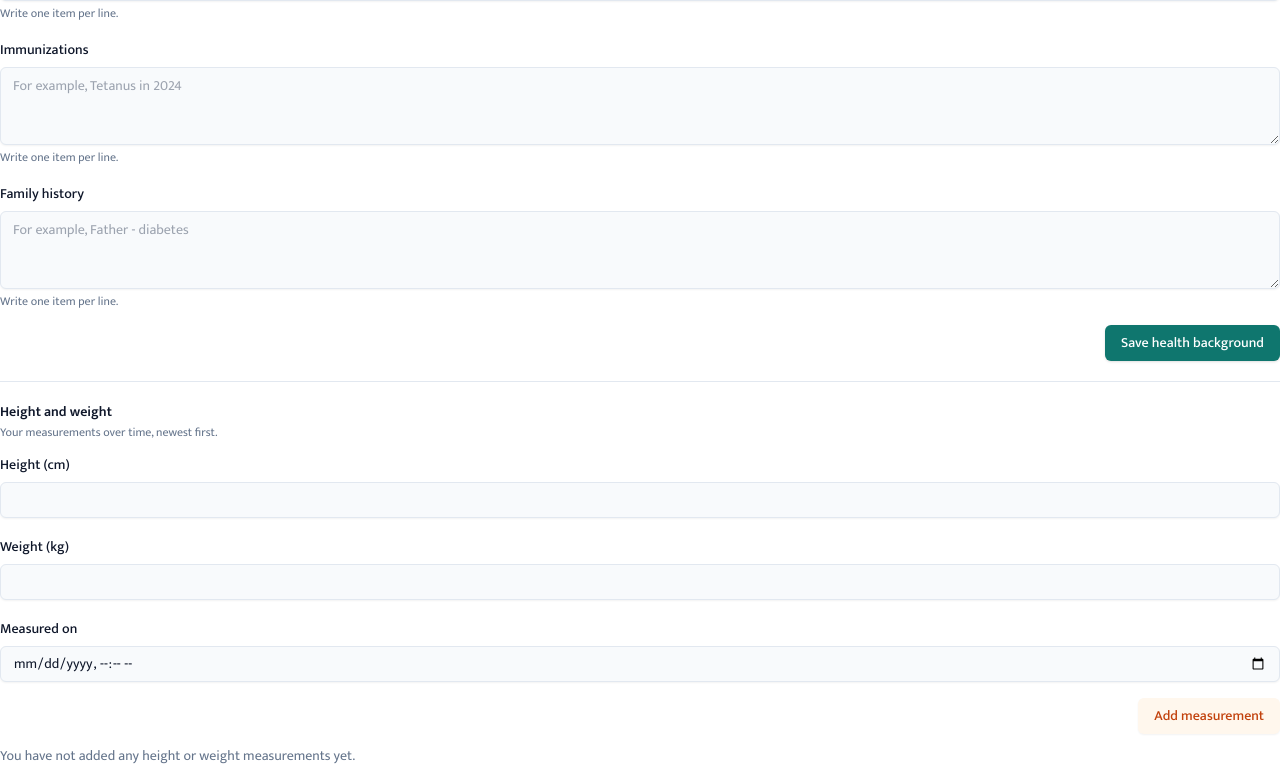
Scenario: Health background zone surface (#549) › appends a measurement and shows it in the series without a reload
(page scrolled)
Type "170" into the field with test id "ps-hb-metric-height" at (640, 500), box [0,482,1279,518]
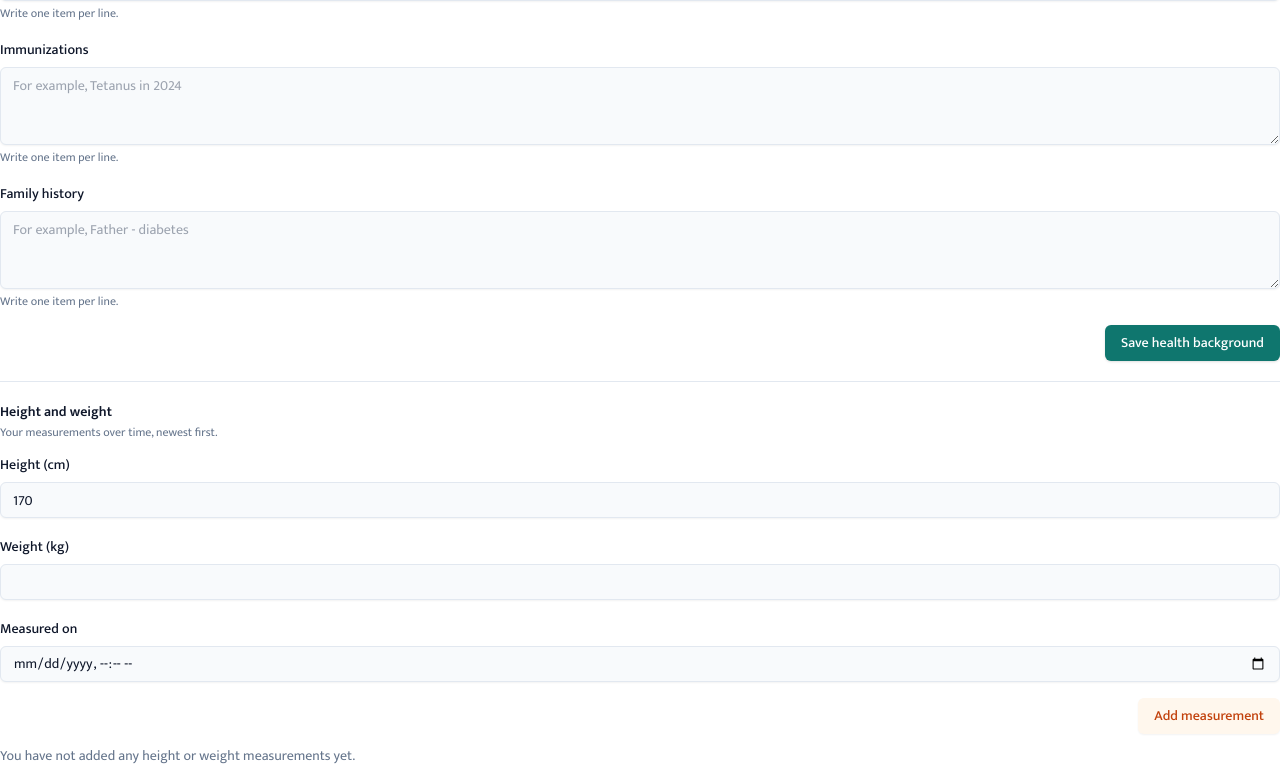
Type "68.5" into the field with test id "ps-hb-metric-weight" at (640, 582), box [0,564,1279,600]
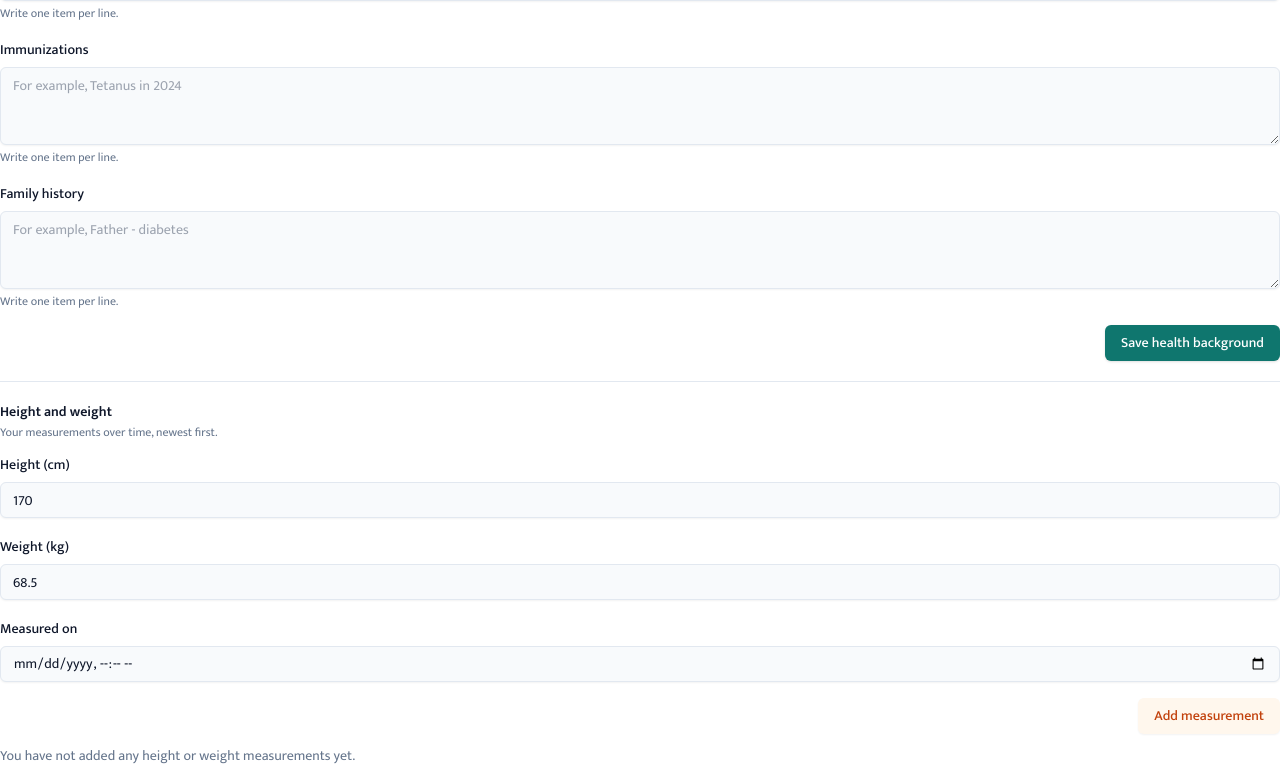
Type "2026-09-26T10:00" into the field with test id "ps-hb-metric-recorded-at" at (640, 664), box [0,646,1279,682]
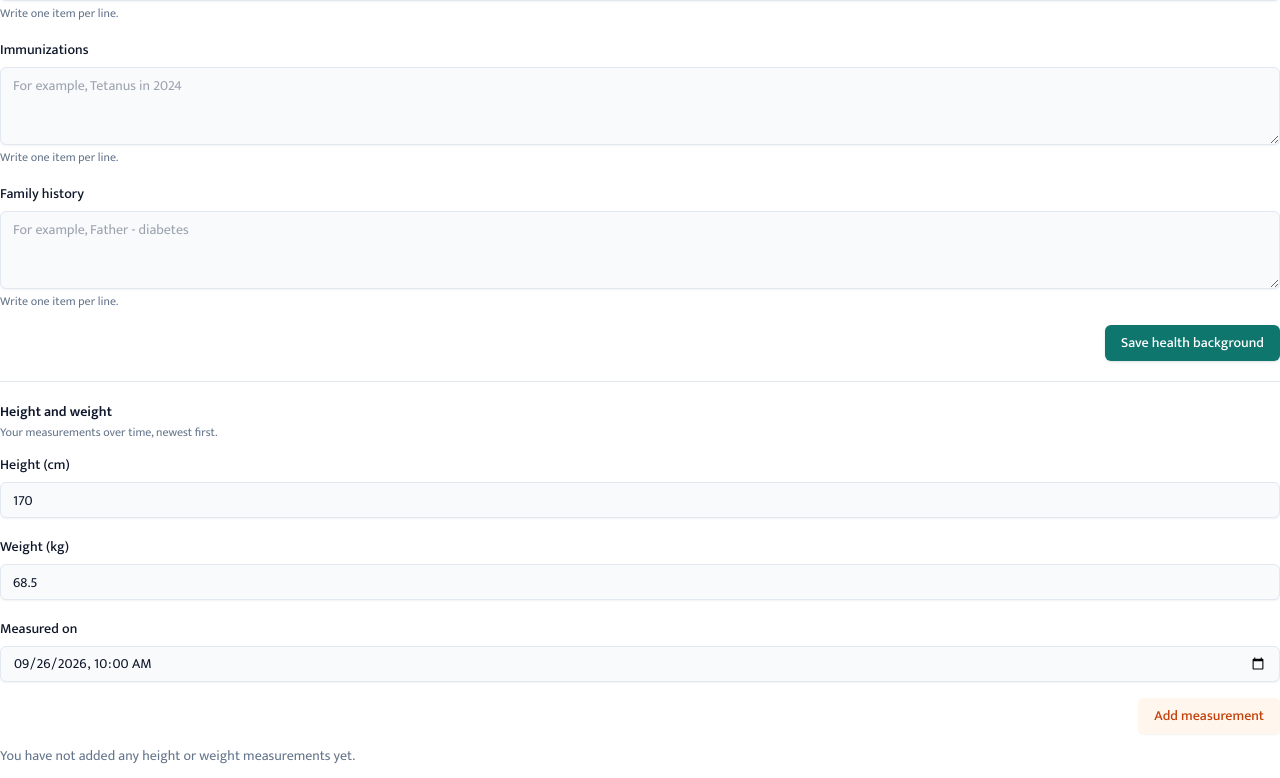
Click the button with test id "ps-hb-metric-add" at (1209, 716), box [1138,698,1279,734]
(page scrolled)
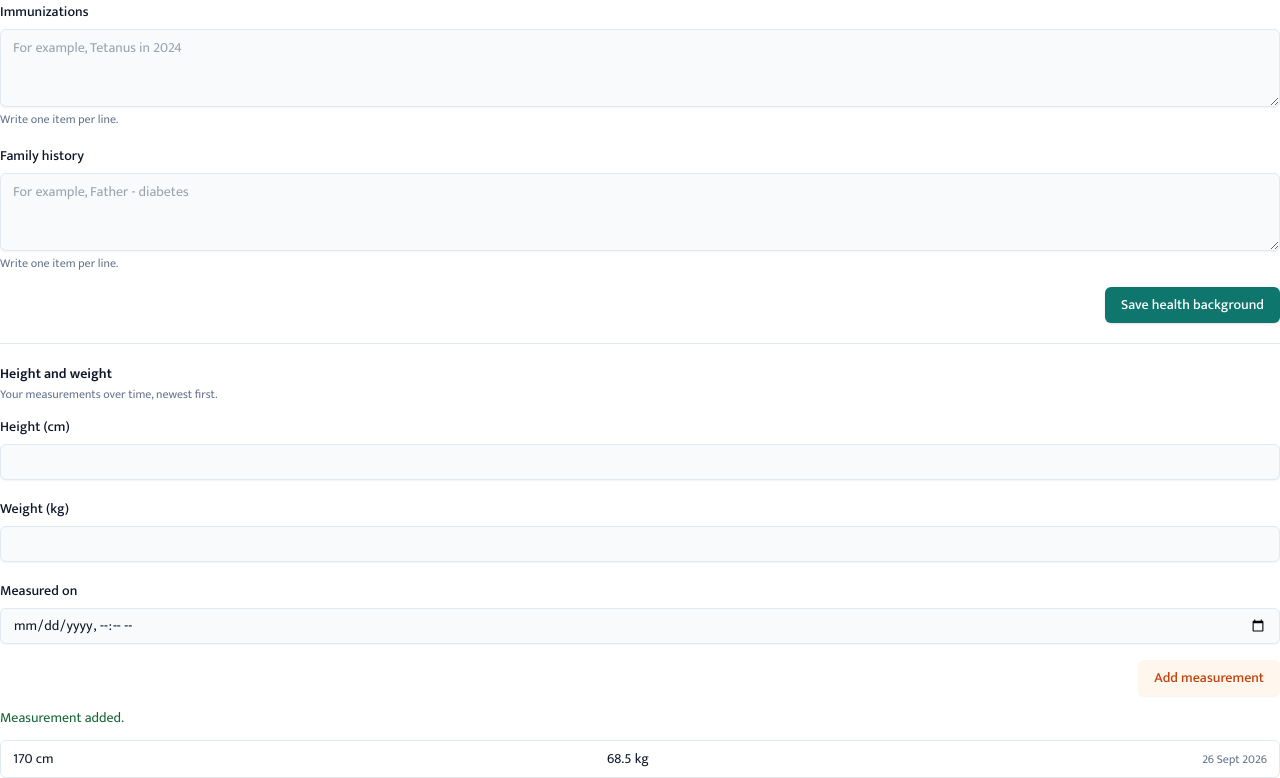
Now the list item with test id "ps-hb-metric-12" is shown, box [0,740,1279,777]
